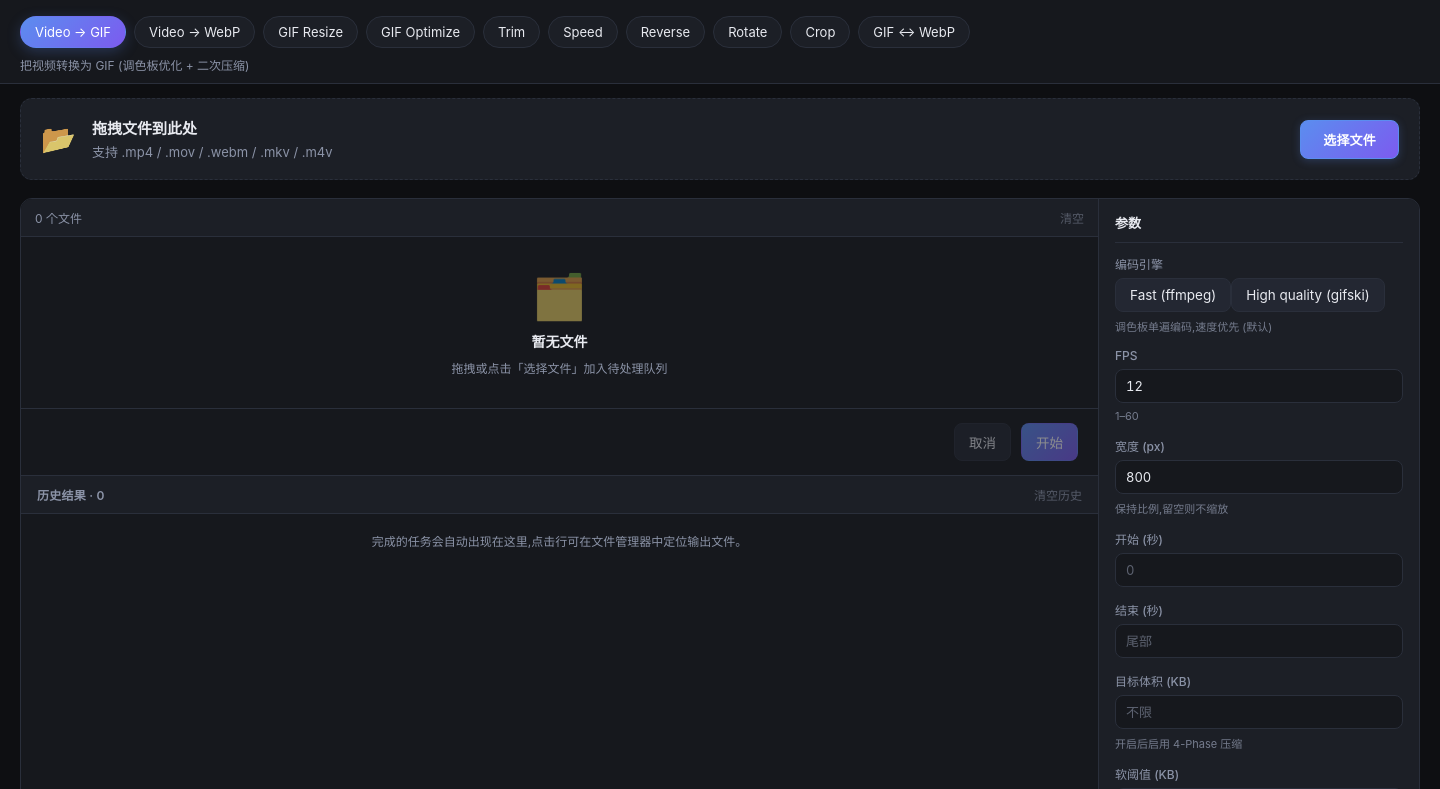
Test: ToolboxPanel › gif-optimize method picker swaps the visible sub-fields
Click the tab "GIF Optimize": (421, 32) [366, 16, 475, 48]
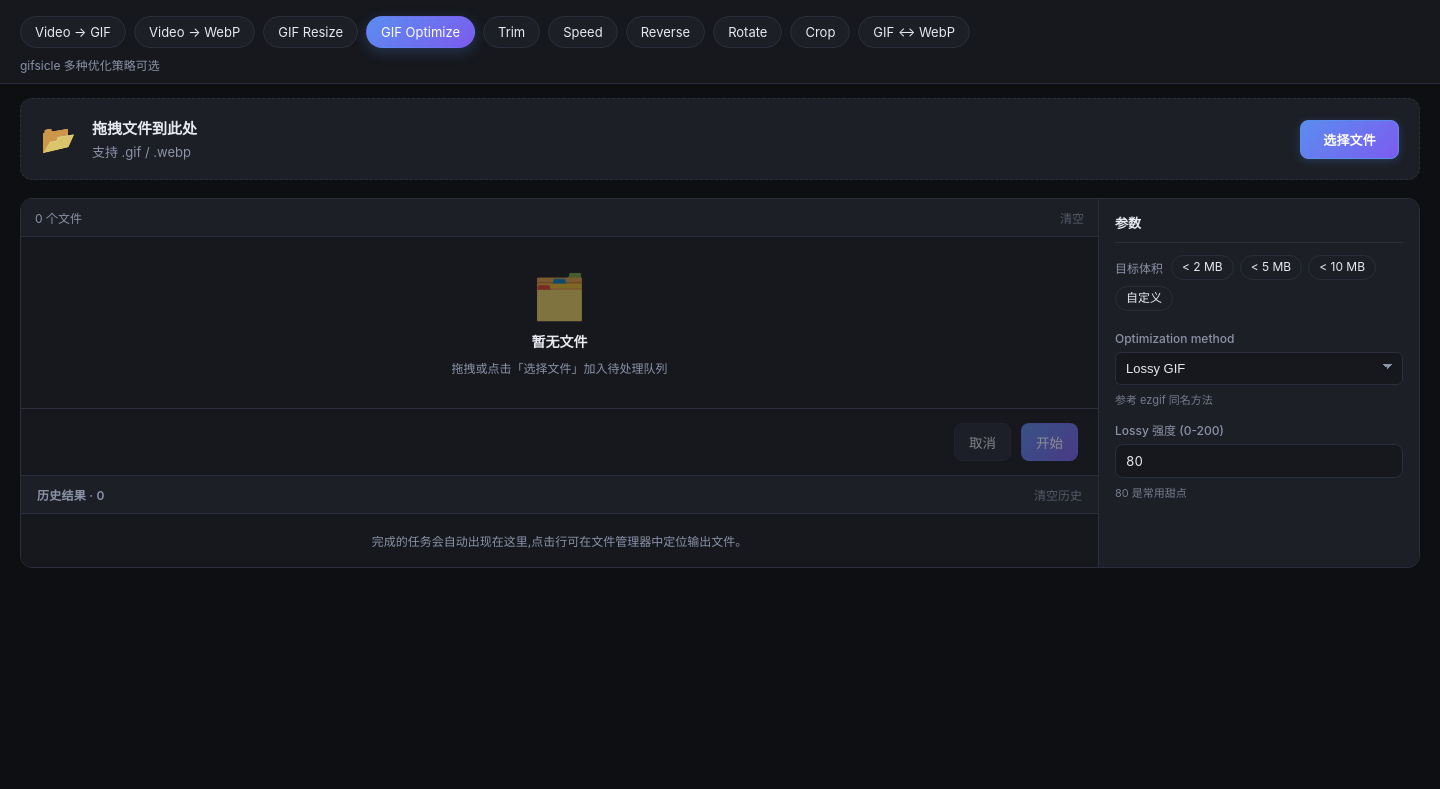
Expected: the text "颜色数 (2-256)" is not shown
Expected: the text "每 N 帧丢 1 (2-10)" is not shown
Select "Color reduction" in the dropdown: (1259, 368) [1115, 352, 1403, 385]
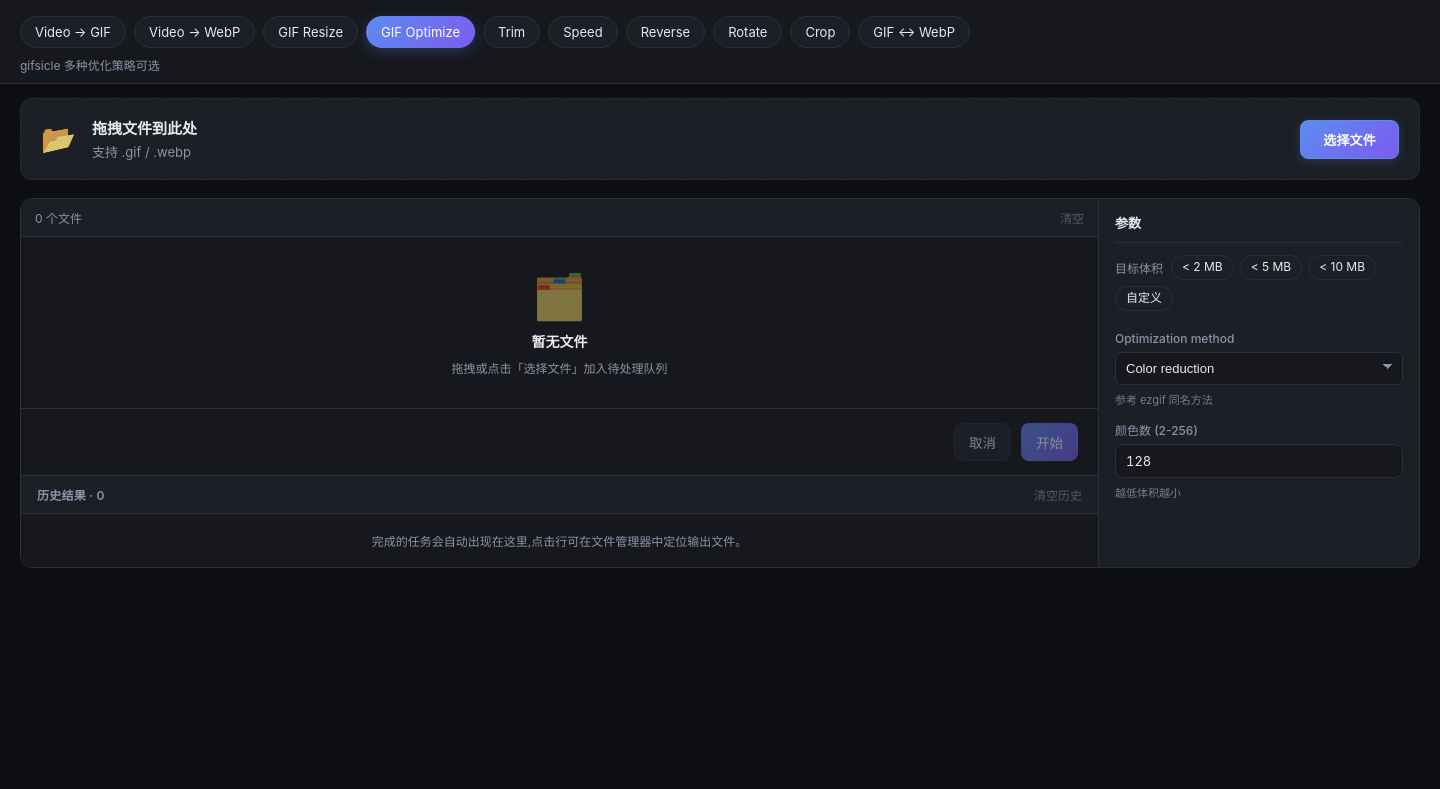
Expected: the text "颜色数 (2-256)" is shown, [1115, 423, 1198, 438]
Select "Drop every Nth frame" in the dropdown: (1259, 368) [1115, 352, 1403, 385]
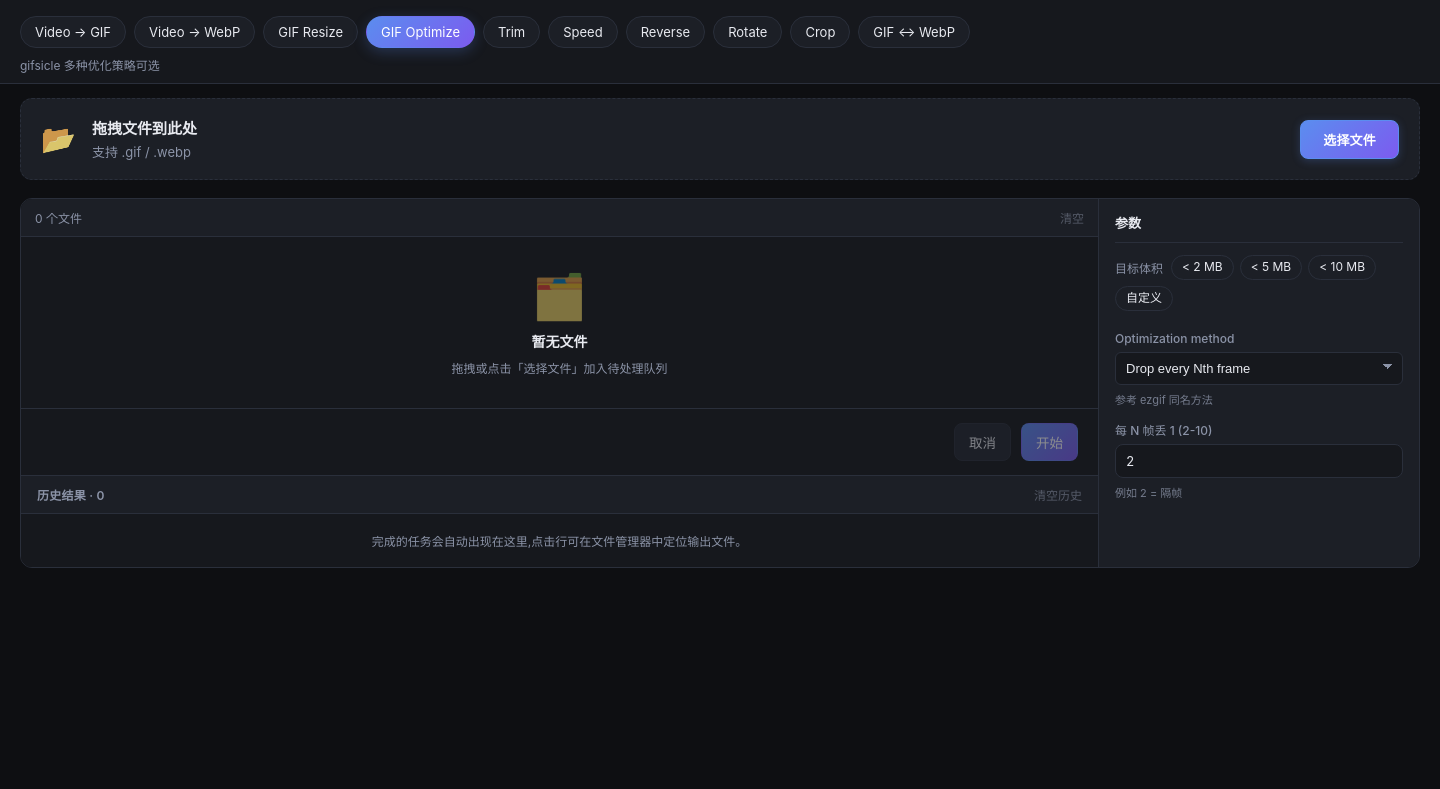
Expected: the text "每 N 帧丢 1 (2-10)" is shown, [1115, 423, 1212, 438]
Select "Size budget (4-Phase)" in the dropdown: (1259, 368) [1115, 352, 1403, 385]
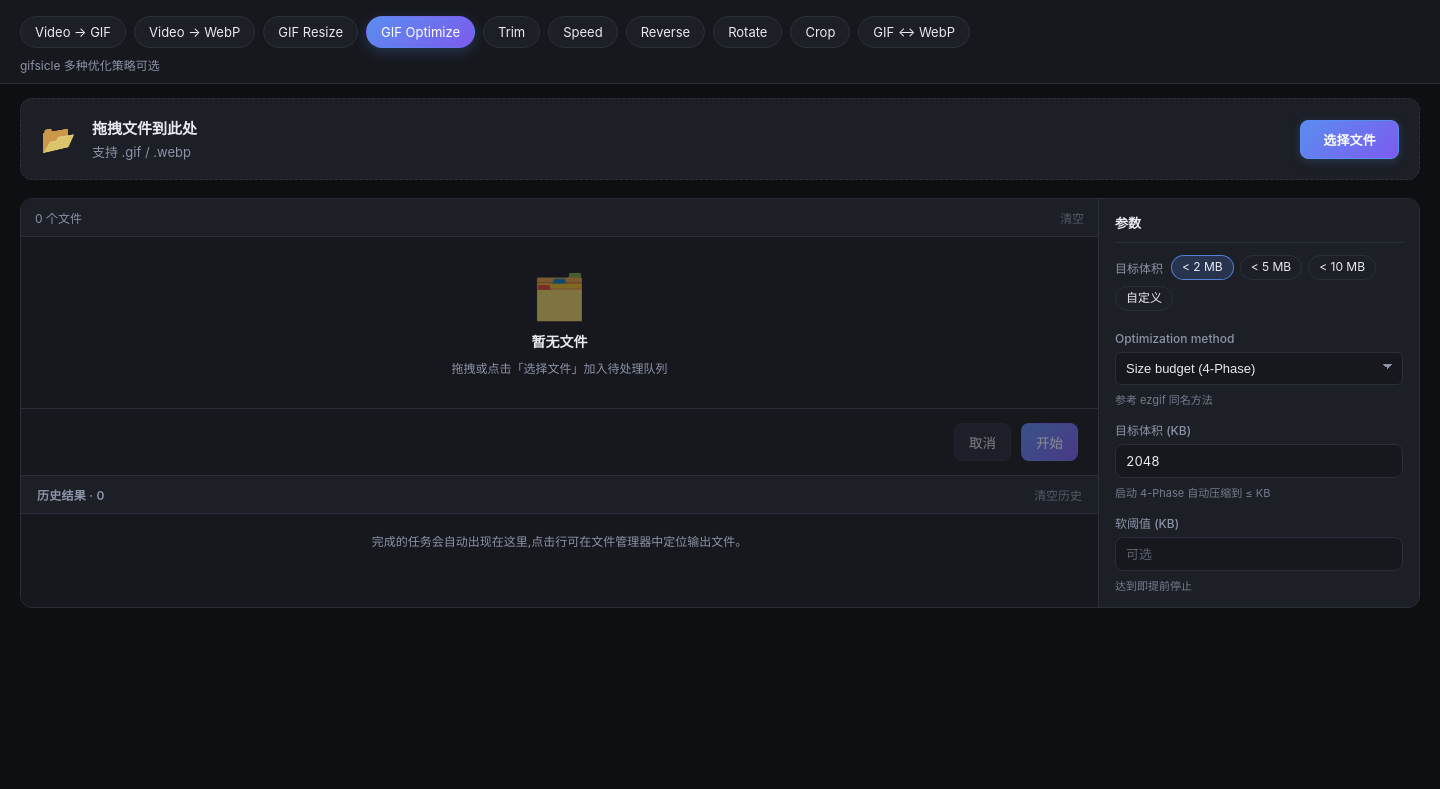
Expected: the text "目标体积 (KB)" is shown, [1115, 423, 1191, 438]
Expected: the text "软阈值 (KB)" is shown, [1115, 516, 1179, 531]
